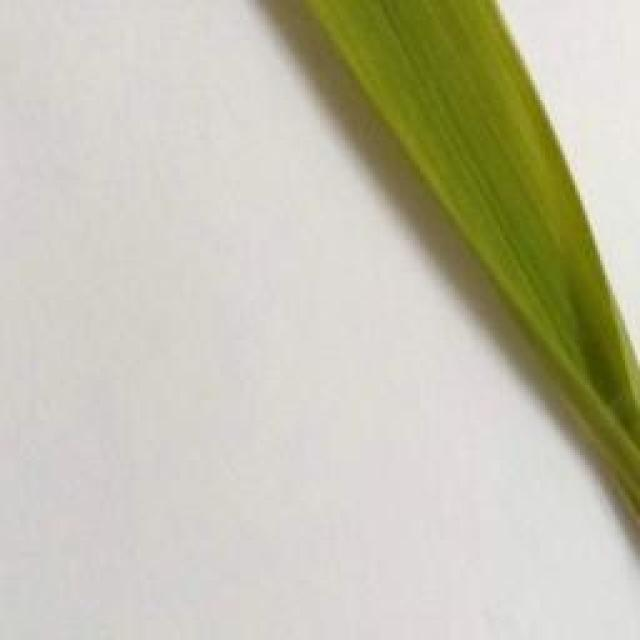Healthy-Plant: (295, 0, 640, 532)
